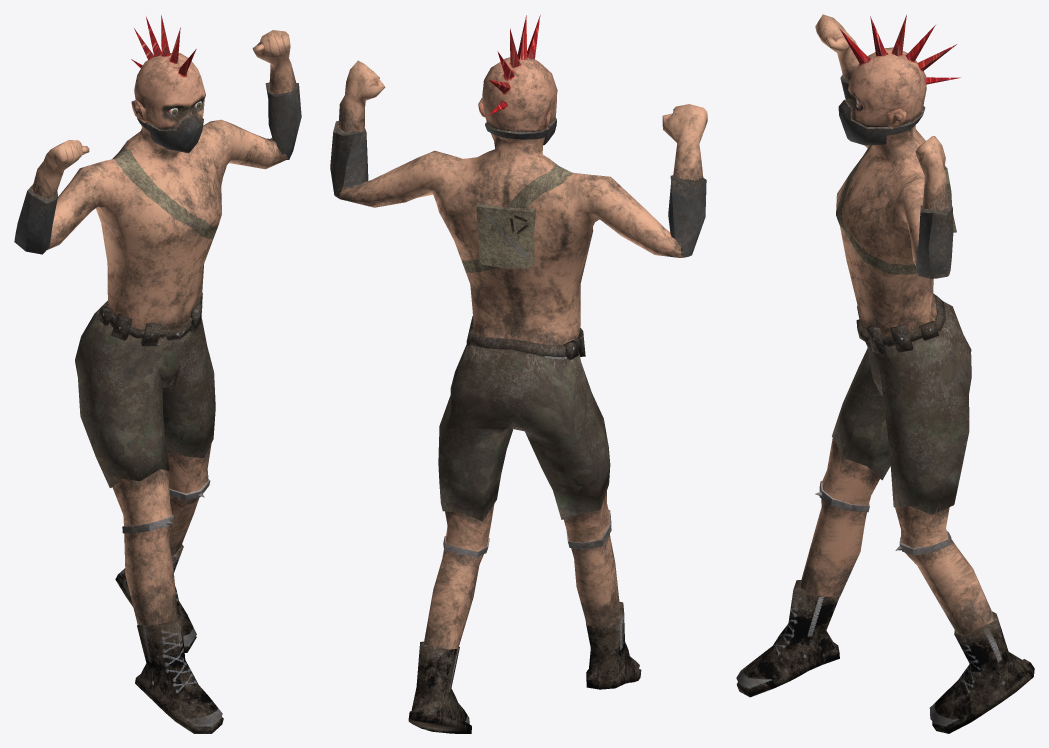
The model's file is Anim_ganar_1_npc2.0038.obj.
3 renders of one model, left to right at view 1: azimuth 30°, elevation 25°; view 2: azimuth 150°, elevation 25°; view 3: azimuth 270°, elevation 25°, orthographic. The views are drawn at different scales.
Visible parts, largest first — view 1: polySurface1; view 2: polySurface1; view 3: polySurface1.
Part boxes in pixels (bbox=[...]): polySurface1: bbox=[14, 15, 301, 733]; polySurface1: bbox=[330, 15, 707, 733]; polySurface1: bbox=[736, 14, 1034, 733].
Bounding box in the file's own units: 5.12 × 10.39 × 4.04.
2 materials, 2 textured.
